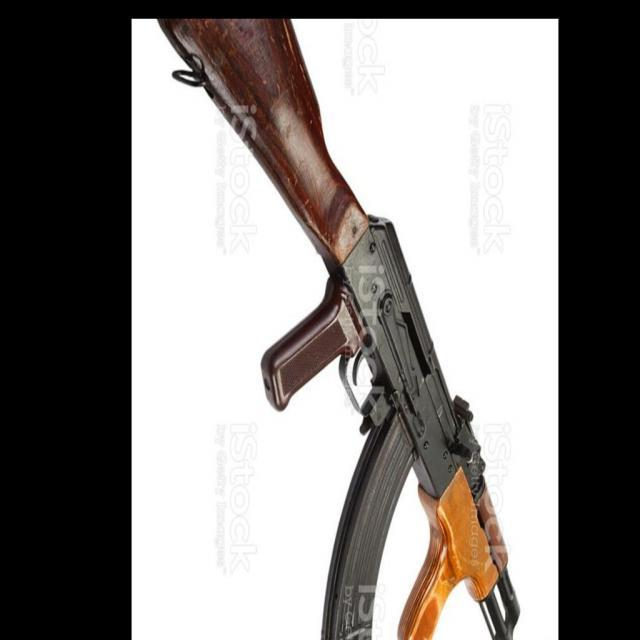weapon: (154, 20, 521, 640)
